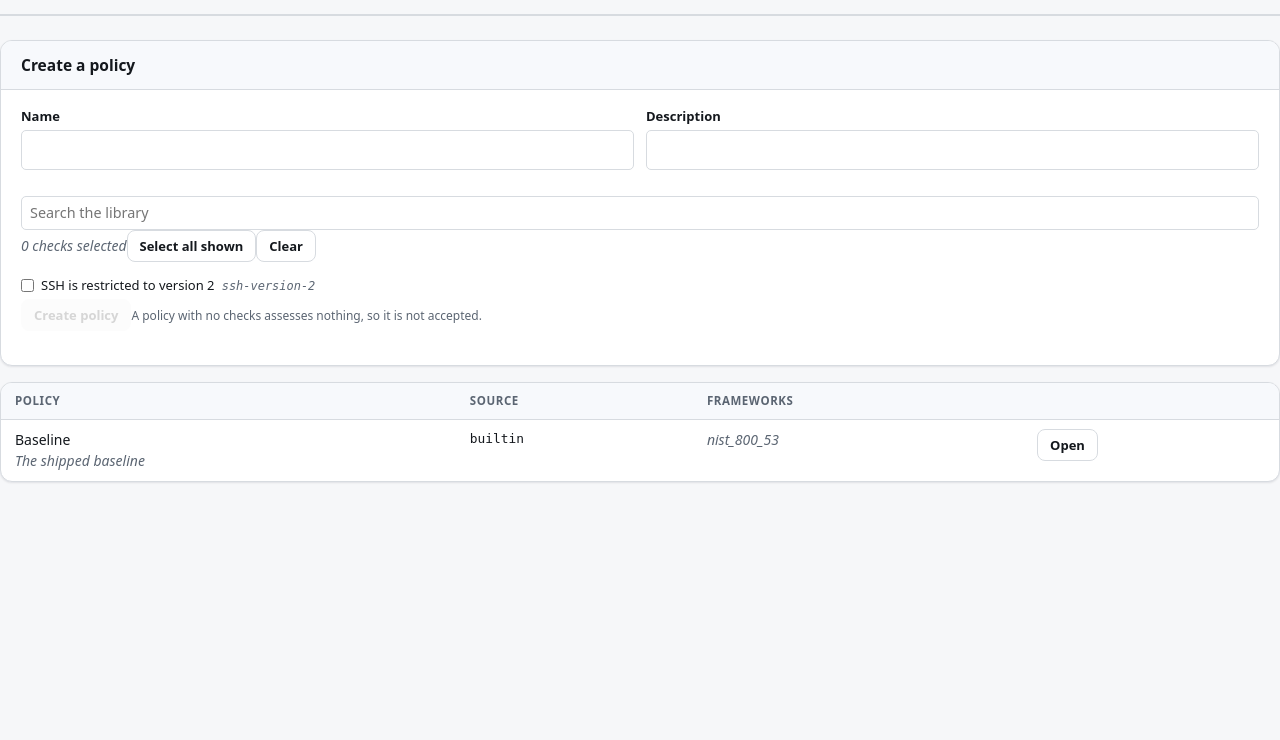
PoliciesPage › the distinction that matters › says what disabling a check means, beside the control that does it
Step 1. Click the button "Open" → coordinates (1068, 445), box [1037,429,1098,461]
(page scrolled)
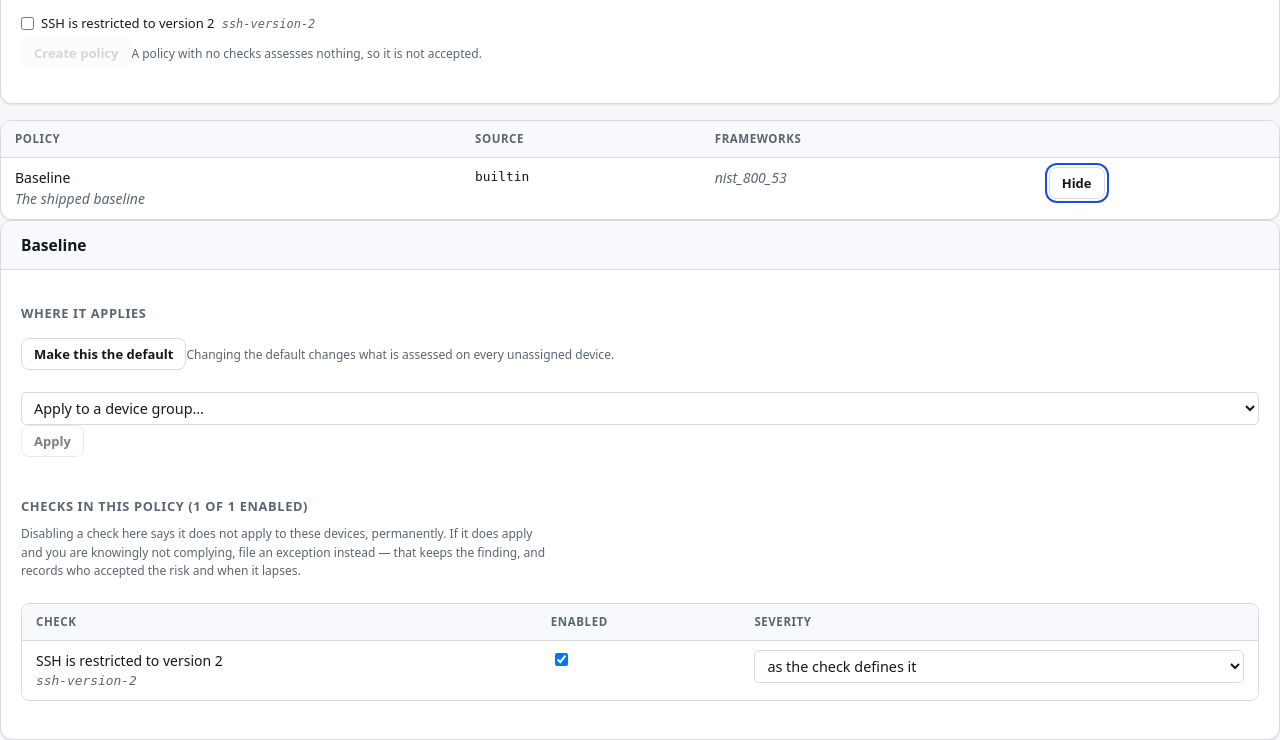
Result: the text "file an exception instead" is shown at [21,525,545,579]
